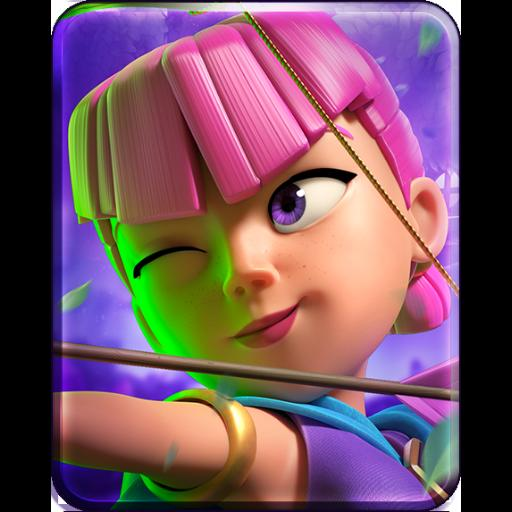archers-evo: (70, 20, 442, 498)
